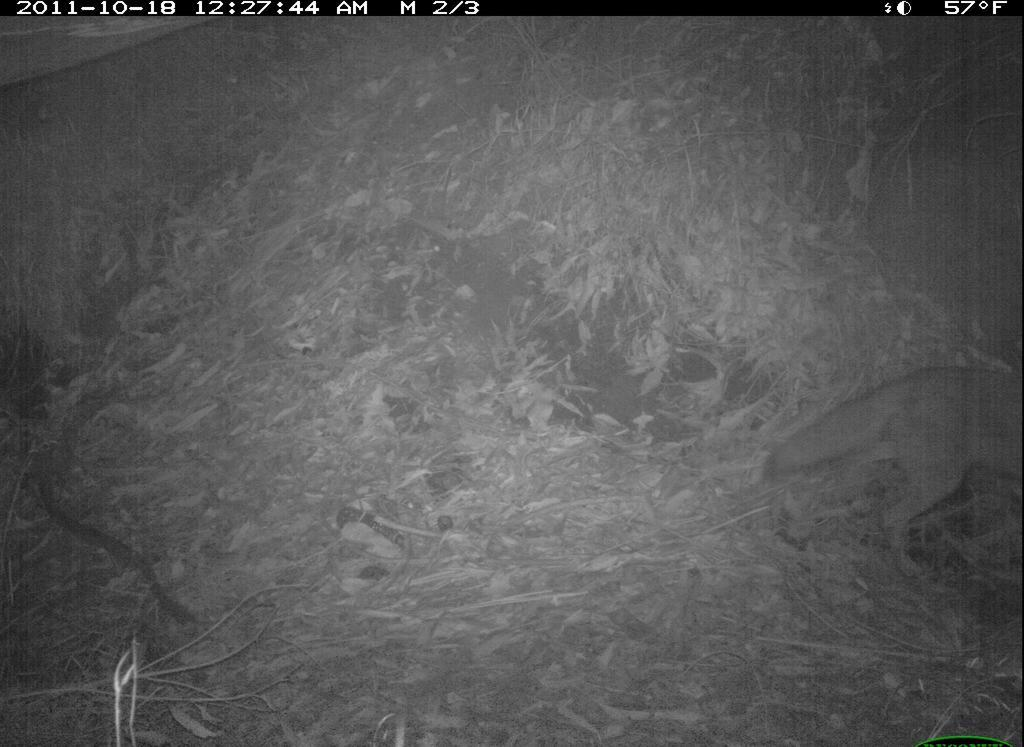coyote: (744, 356, 1023, 593)
